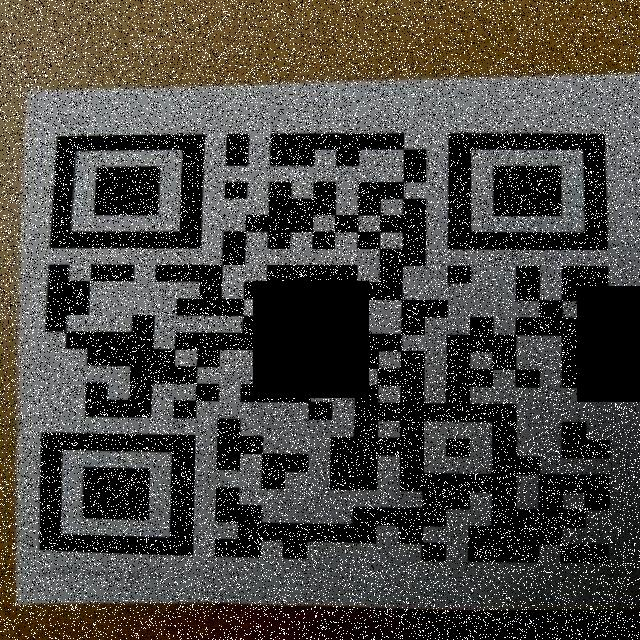QR_CODE: (28, 94, 632, 586)
